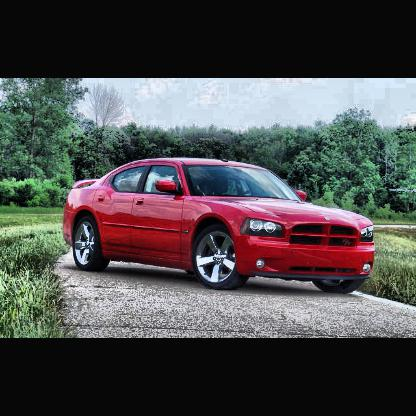Dodge Charger SRT-8 2009: (63, 157, 378, 297)
